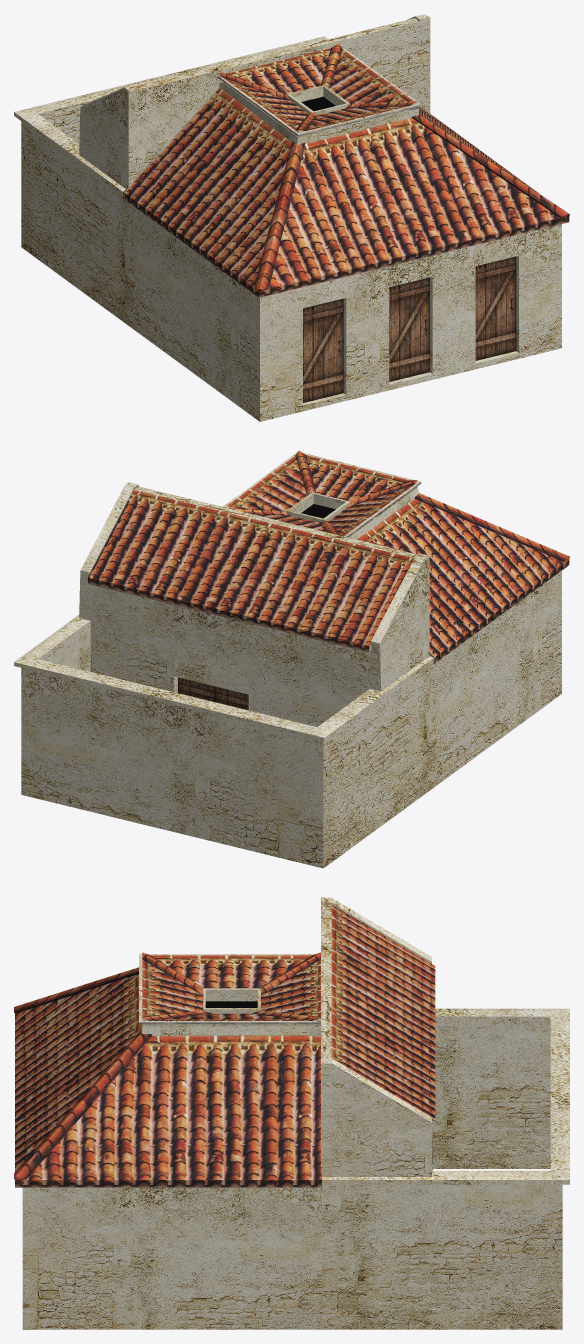
The model's file is rome_civic_house1.dae.
3 views of the same model, one above another, from view 1: azimuth 30°, elevation 25°; view 2: azimuth 150°, elevation 25°; view 3: azimuth 270°, elevation 25° (orthographic). The views are drawn at different scales.
Visible parts, largest first — view 1: Cube; view 2: Cube; view 3: Cube.
Part boxes in pixels (box(x1,y1,x2,y2)): Cube: box(14, 14, 569, 421); Cube: box(14, 450, 569, 868); Cube: box(14, 897, 569, 1329).
Bounding box in the file's own units: 12.19 × 16.7 × 8.8.
